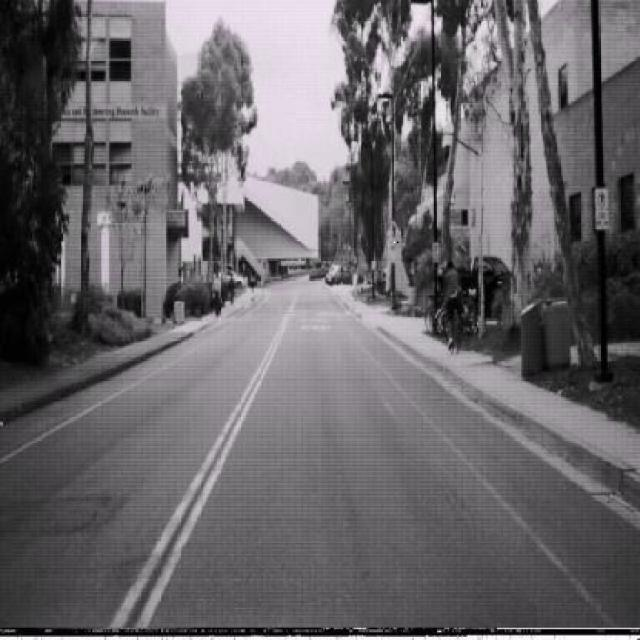pedestrianCrossing: (386, 218, 401, 248)
